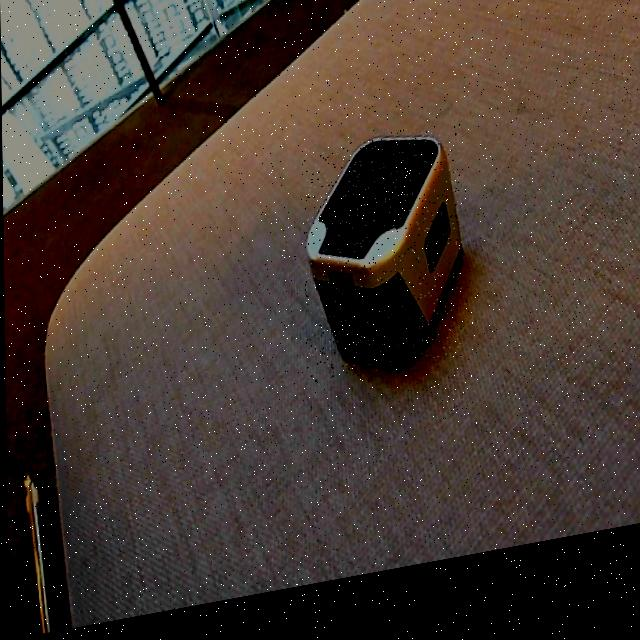adapter: (302, 137, 462, 397)
